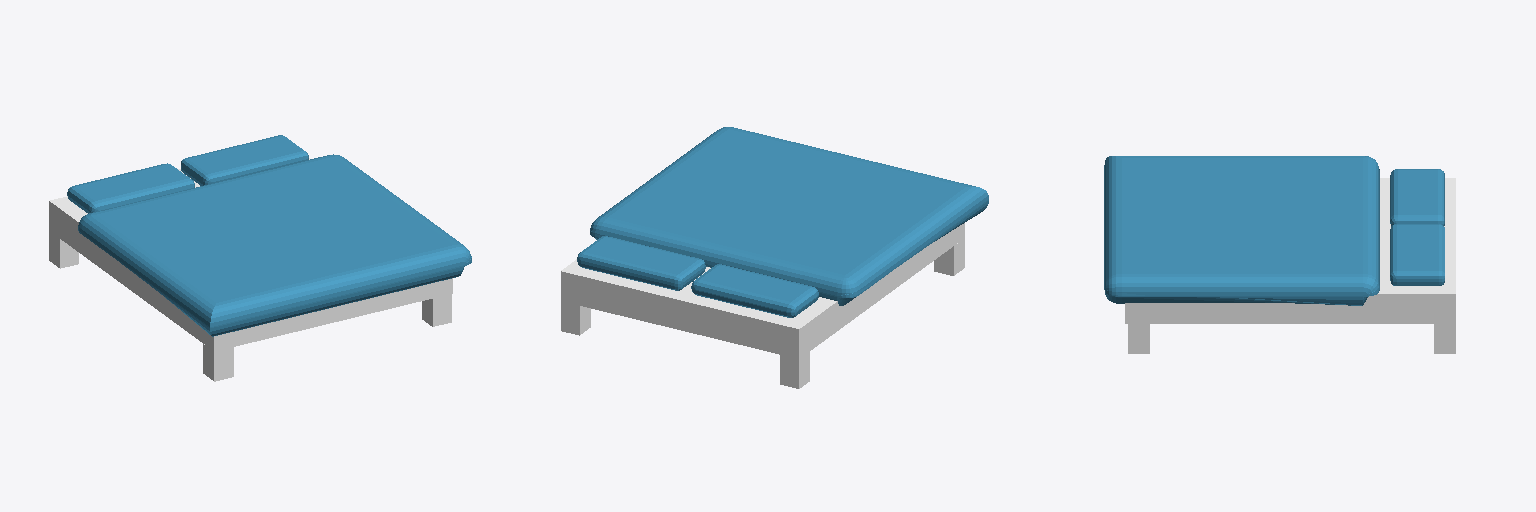
File: bed.obj
3 renders of one model, left to right at view 1: azimuth 30°, elevation 25°; view 2: azimuth 150°, elevation 25°; view 3: azimuth 270°, elevation 25°, orthographic.
Visible parts, largest first — view 1: Box008, Box001, Box007, Box006, Box002, Box004, Box005; view 2: Box008, Box001, Box007, Box006, Box005, Box003, Box002; view 3: Box008, Box001, Box007, Box006, Box003, Box004.
Part boxes in pixels (bbox=[...]): Box008: bbox=[78, 154, 471, 336]; Box001: bbox=[49, 158, 452, 351]; Box007: bbox=[181, 135, 308, 185]; Box006: bbox=[67, 163, 194, 213]; Box002: bbox=[203, 344, 233, 381]; Box004: bbox=[422, 294, 451, 326]; Box005: bbox=[49, 231, 78, 268]; Box008: bbox=[590, 127, 988, 305]; Box001: bbox=[561, 223, 964, 358]; Box007: bbox=[577, 236, 705, 290]; Box006: bbox=[691, 264, 818, 317]; Box005: bbox=[780, 352, 809, 388]; Box003: bbox=[561, 301, 590, 335]; Box002: bbox=[934, 238, 964, 275]; Box008: bbox=[1104, 156, 1379, 305]; Box001: bbox=[1125, 178, 1455, 323]; Box007: bbox=[1390, 224, 1444, 285]; Box006: bbox=[1390, 169, 1444, 225]; Box003: bbox=[1434, 324, 1455, 353]; Box004: bbox=[1128, 324, 1149, 353].
Size of the model in its own units: 28 by 8 by 31.87.